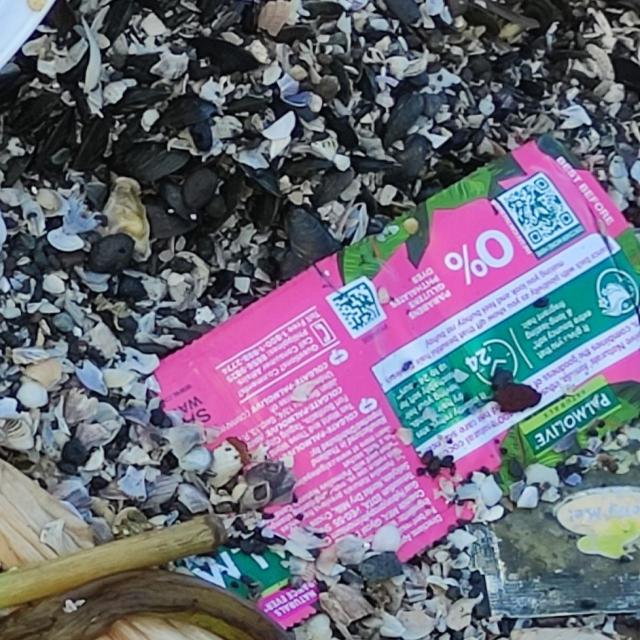plastic_waste: (154, 132, 640, 640)
